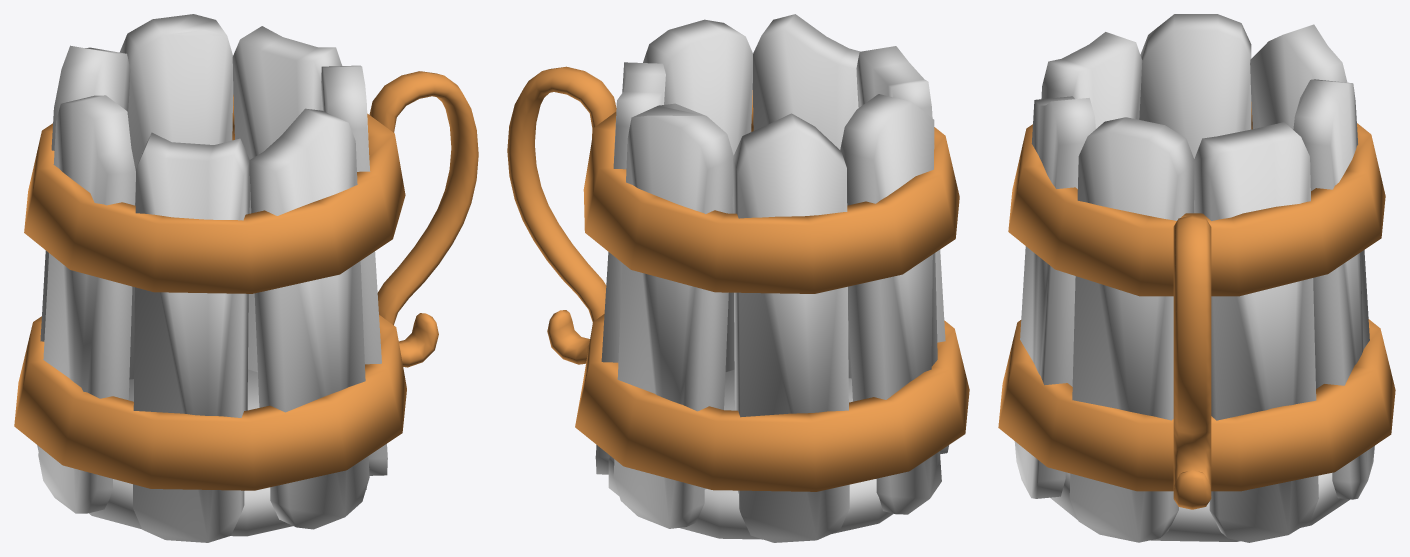
The model's file is Mug1.fbx.
The picture shows the model from 3 angles, left to right: view 1: azimuth 30°, elevation 25°; view 2: azimuth 150°, elevation 25°; view 3: azimuth 270°, elevation 25°; orthographic projection.
Parts seen in each view (by area): view 1: Cube.084; view 2: Cube.084; view 3: Cube.084.
Part boxes in pixels (<box>): Cube.084: <box>14,14,478,542</box>; Cube.084: <box>507,14,969,542</box>; Cube.084: <box>998,14,1395,542</box>.
Bounding box in the file's own units: 44.21 × 39.46 × 34.82.
